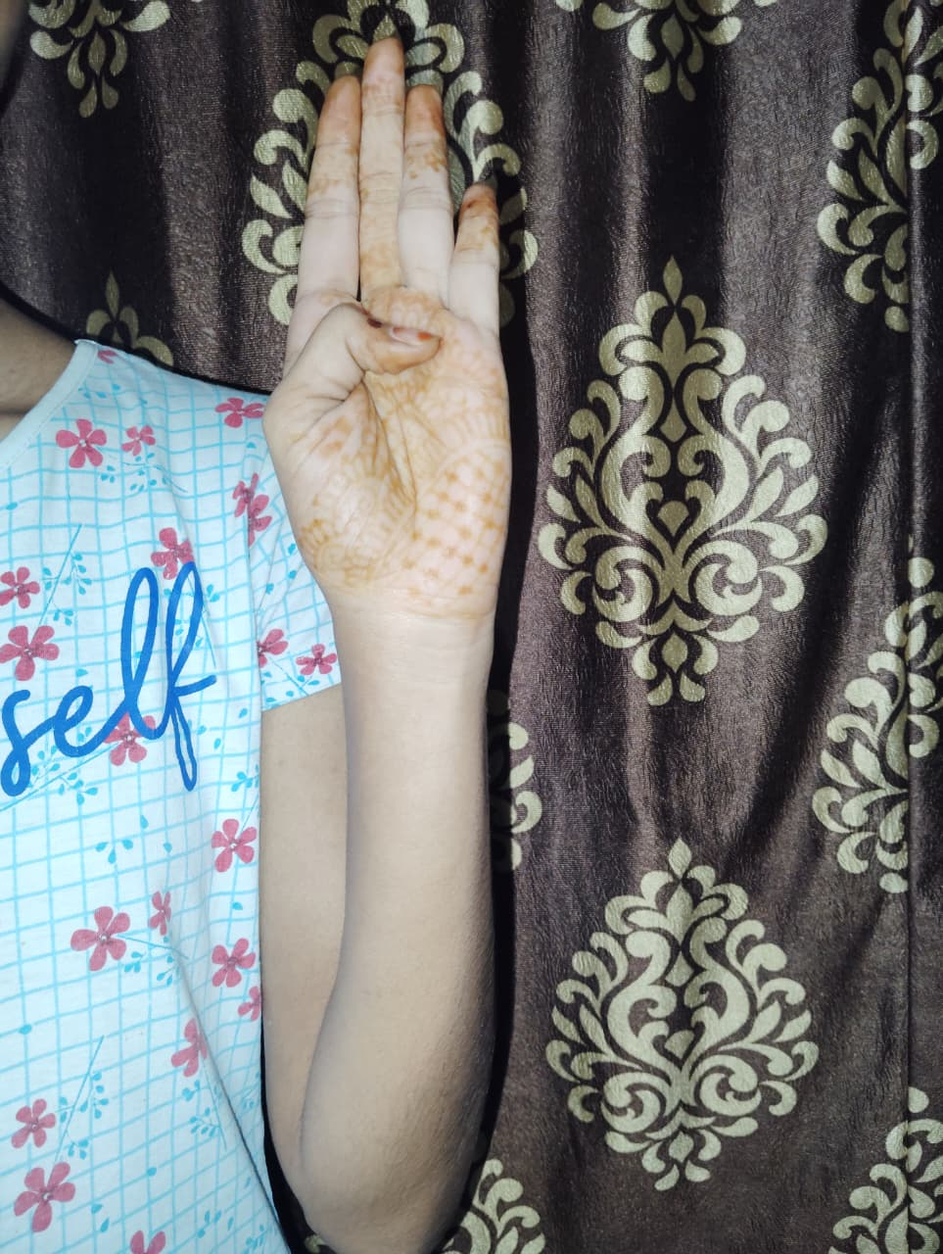B: (263, 34, 508, 592)
